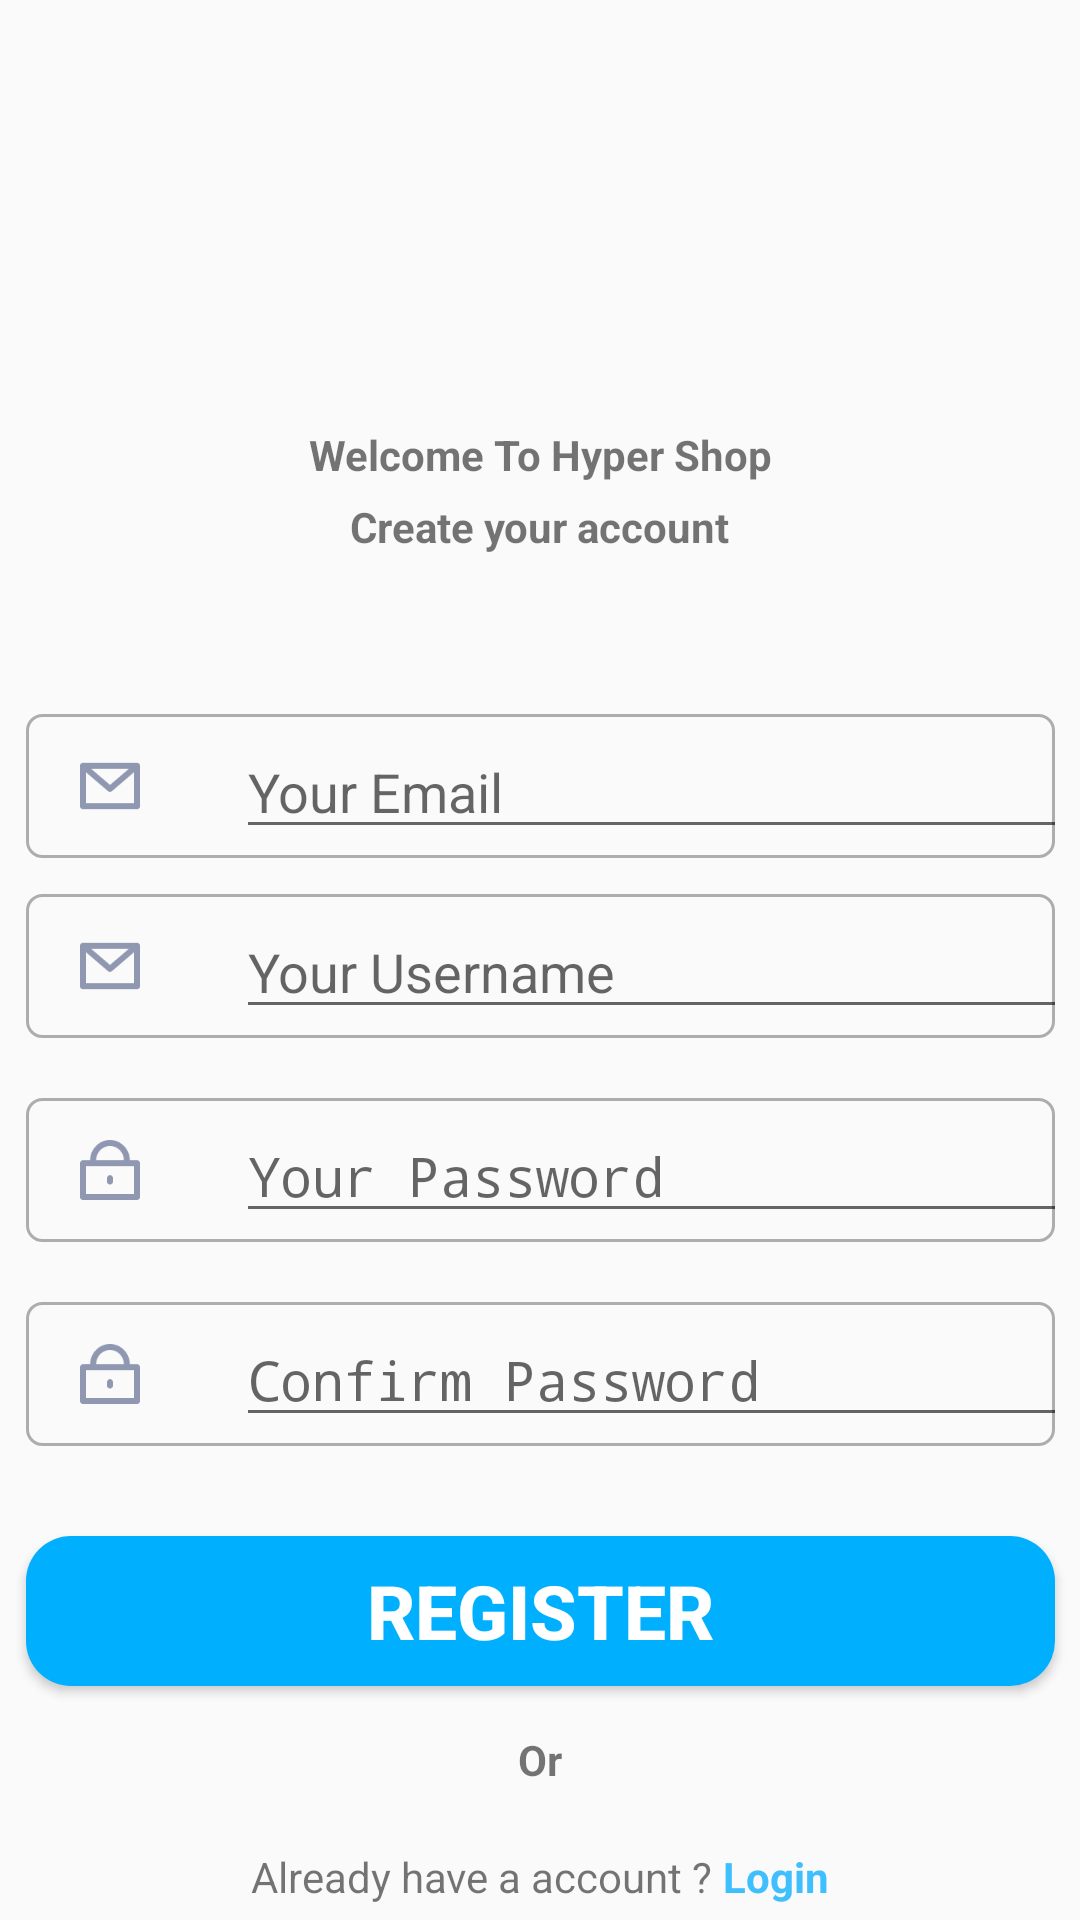

Screen size 1080px x 1920px. Icon name, then its box in pixels as Rect(x1, y1, x2, y2):
message: Rect(80, 763, 140, 809), Rect(80, 943, 140, 989)
